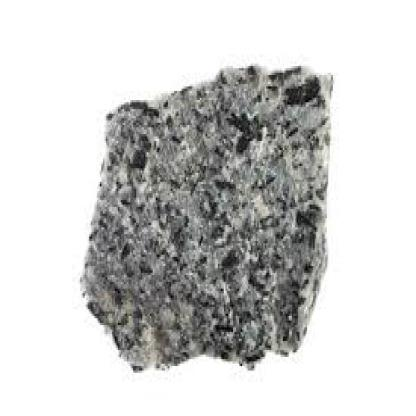Igneous_Diorite: (79, 61, 345, 373)
